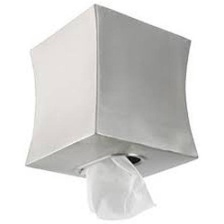plastic_box: (20, 0, 205, 187)
tissue: (79, 150, 163, 223)
